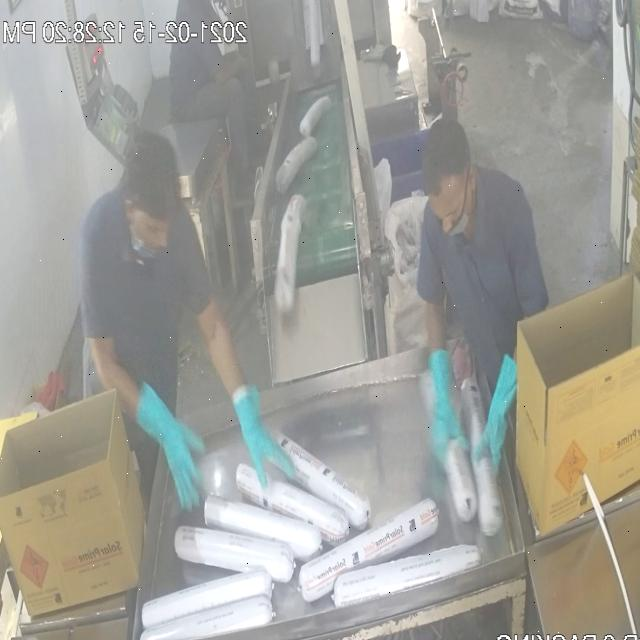Gloves: (136, 384, 202, 508), (232, 387, 295, 486), (476, 356, 516, 470), (429, 348, 461, 465)
Mask: (131, 228, 159, 258), (448, 211, 469, 234)
No Hardhat: (121, 132, 181, 221), (423, 120, 471, 195)
No Overall Suit: (417, 168, 549, 393), (81, 187, 212, 413)
